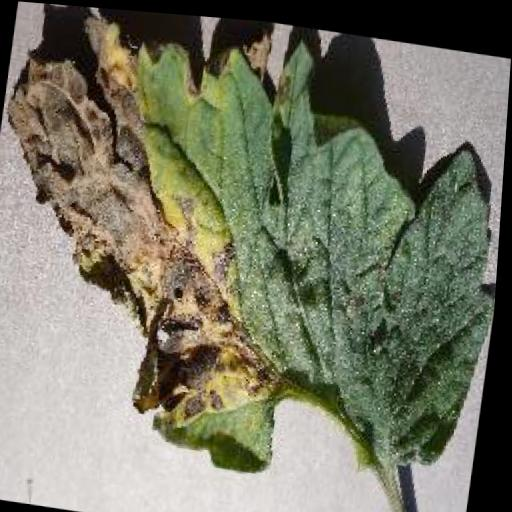Early Blight: (0, 0, 512, 502)
